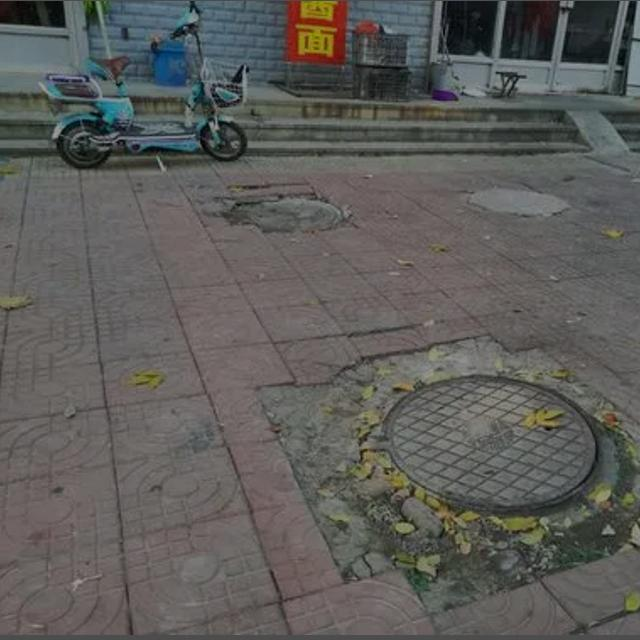circle: (277, 334, 640, 604)
